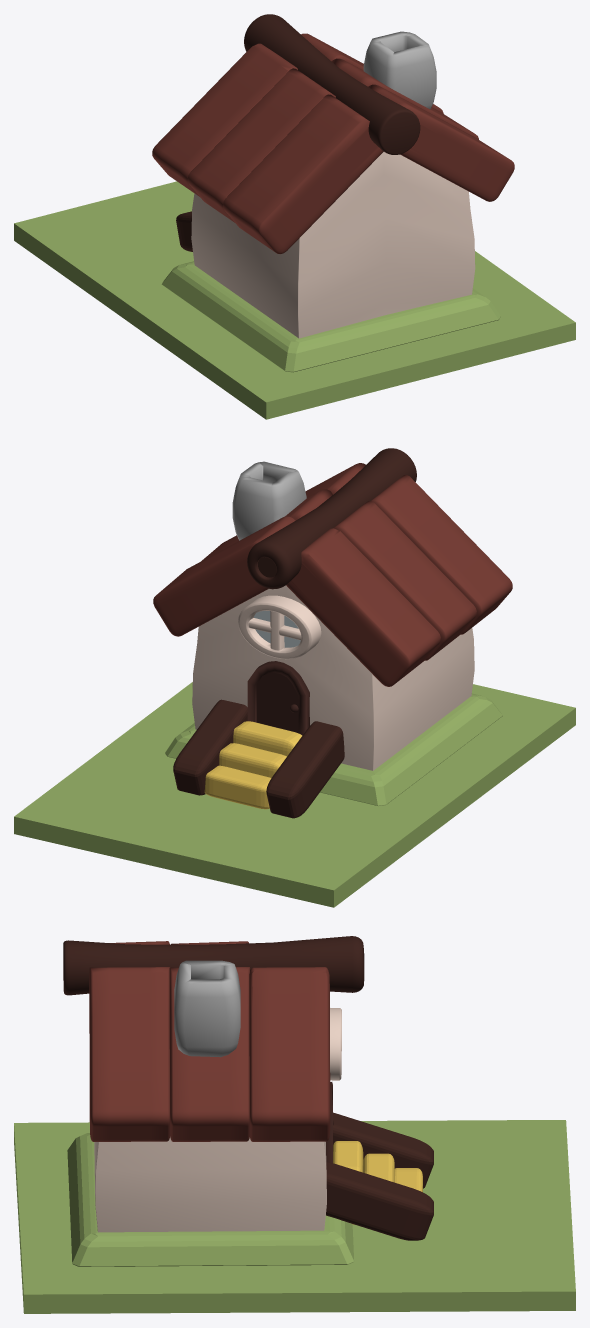
The model's file is house_1.fbx.
The picture shows the model from 3 angles, top to bottom: view 1: azimuth 30°, elevation 25°; view 2: azimuth 150°, elevation 25°; view 3: azimuth 270°, elevation 25°; orthographic projection. The views are drawn at different scales.
Visible parts, largest first — view 1: Cube, Cube.014, Cube.001, Cylinder, Cube.011, Cube.005; view 2: Cube, Cube.014, Cube.001, Cube.005, Cylinder, Cube.007, Cube.011, Roundcube; view 3: Cube, Cube.014, Cube.001, Cylinder, Cube.005, Cube.011, Cube.007.
Part boxes in pixels (bbox=[...]): Cube: bbox=[14, 181, 575, 419]; Cube.014: bbox=[152, 33, 514, 254]; Cube.001: bbox=[191, 152, 475, 338]; Cylinder: bbox=[244, 14, 420, 154]; Cube.011: bbox=[363, 31, 436, 109]; Cube.005: bbox=[176, 211, 192, 251]; Cube: bbox=[14, 682, 575, 907]; Cube.014: bbox=[153, 463, 512, 686]; Cube.001: bbox=[192, 585, 474, 770]; Cube.005: bbox=[173, 699, 344, 818]; Cylinder: bbox=[247, 448, 416, 589]; Cube.007: bbox=[204, 721, 302, 809]; Cube.011: bbox=[232, 461, 306, 540]; Roundcube: bbox=[247, 661, 309, 735]; Cube: bbox=[14, 1120, 575, 1313]; Cube.014: bbox=[89, 941, 330, 1141]; Cube.001: bbox=[94, 1008, 341, 1232]; Cylinder: bbox=[63, 936, 364, 995]; Cube.005: bbox=[326, 1112, 433, 1240]; Cube.011: bbox=[174, 960, 240, 1057]; Cube.007: bbox=[333, 1141, 422, 1224].
Size of the model in its own units: 706 by 546 by 959.
